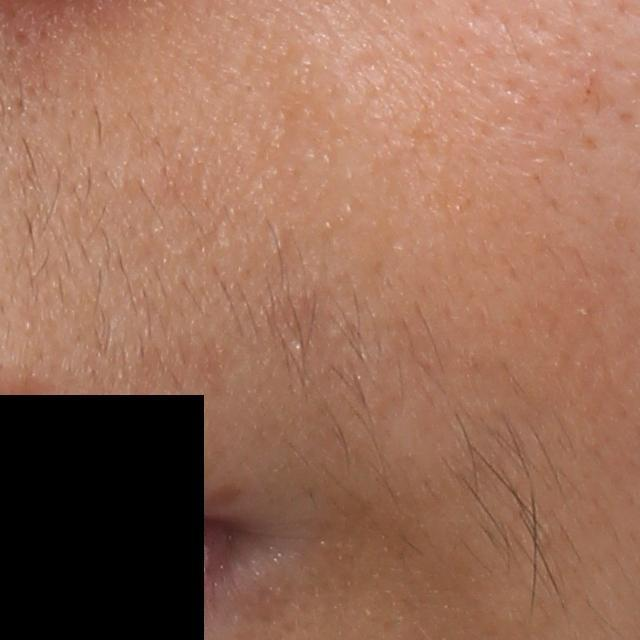comedo: (291, 340, 306, 358)
